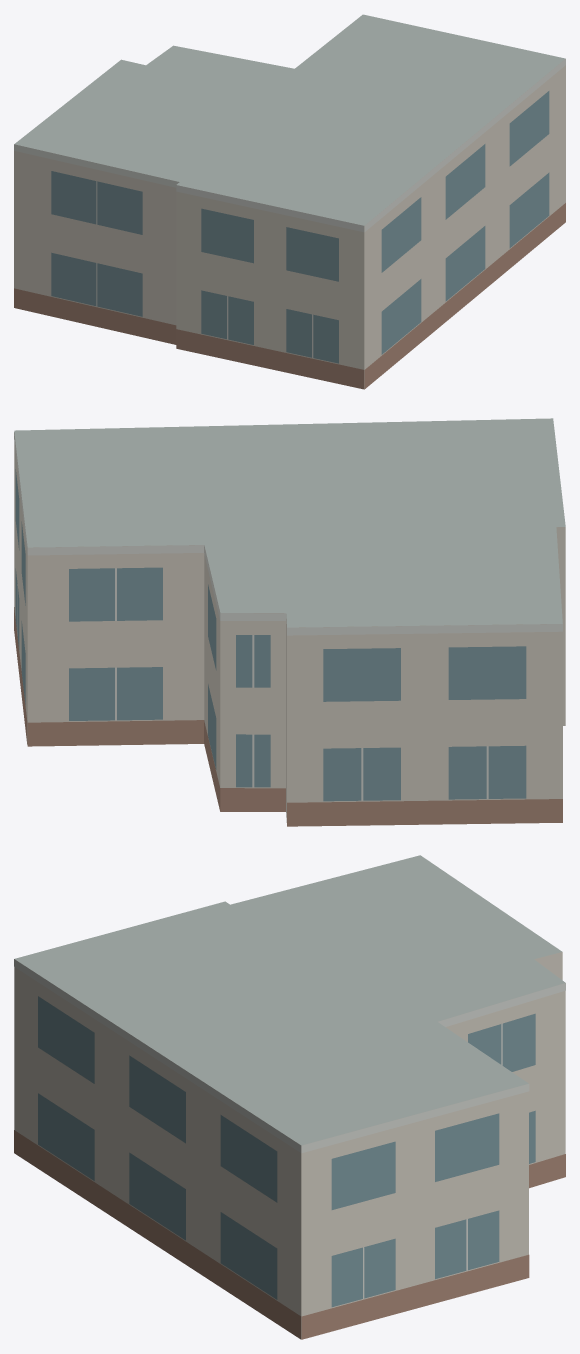
Rendered from survey-upis-32625516.glb.
The picture shows the model from 3 angles, top to bottom: view 1: azimuth 30°, elevation 25°; view 2: azimuth 150°, elevation 25°; view 3: azimuth 270°, elevation 25°; orthographic projection. The views are drawn at different scales.
Parts seen in each view (by area): view 1: survey-upis-32625516.tmp; view 2: survey-upis-32625516.tmp; view 3: survey-upis-32625516.tmp.
Boxes of the visible parts, x1,y1,x2,y2 form: survey-upis-32625516.tmp: (14, 14, 565, 389); survey-upis-32625516.tmp: (14, 418, 565, 826); survey-upis-32625516.tmp: (14, 855, 565, 1339).
Size of the model in its own units: 19.57 by 6.1 by 15.72.
